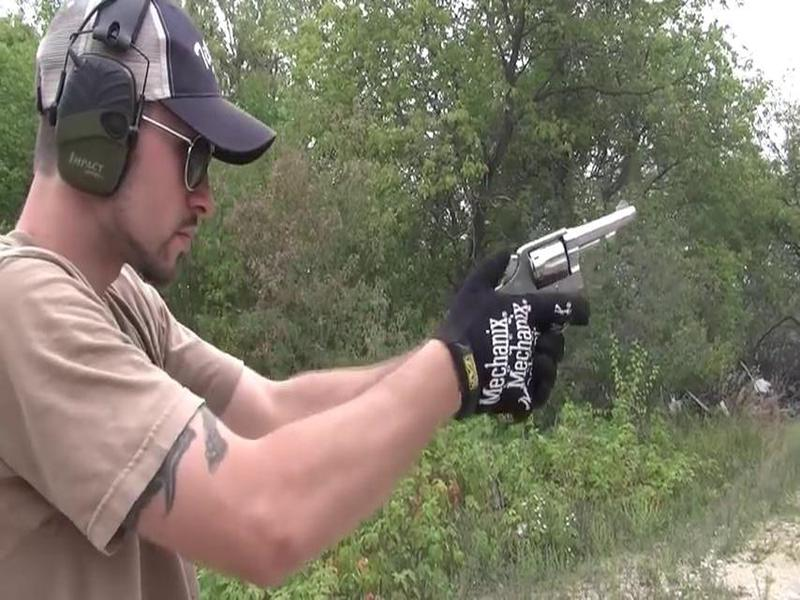Revolver: (507, 191, 648, 332)
